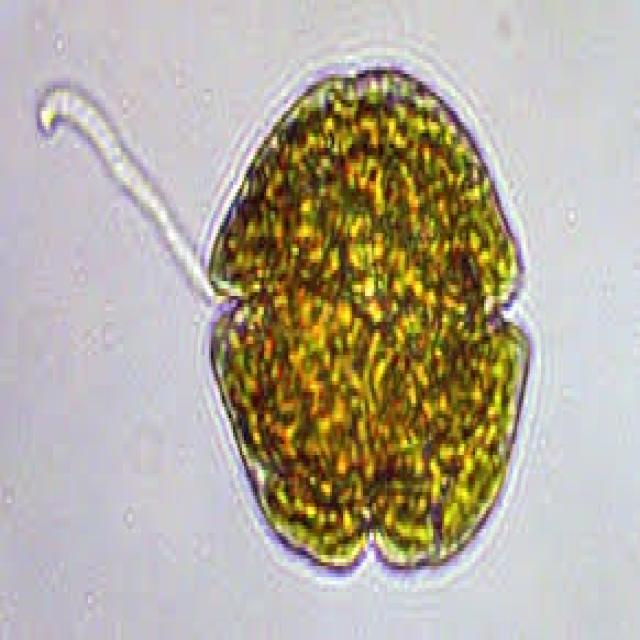Karenia: (193, 48, 544, 577)
